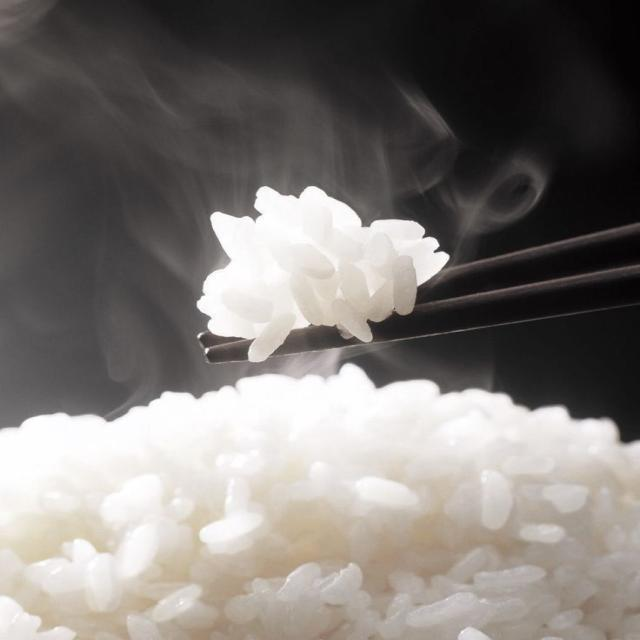rice: (0, 366, 639, 639), (199, 187, 448, 361)
